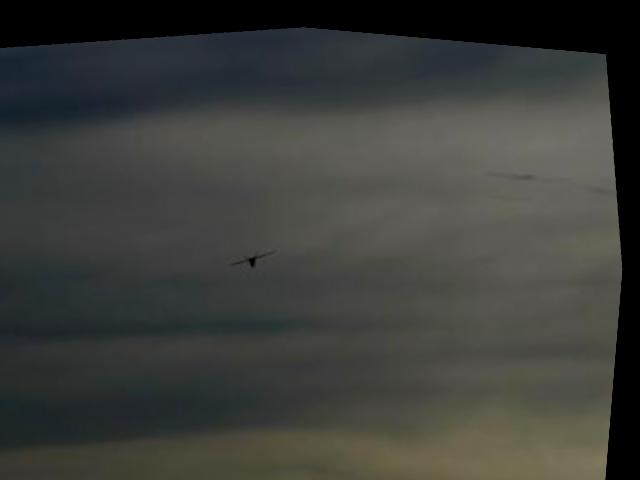uav: (230, 242, 280, 271)
